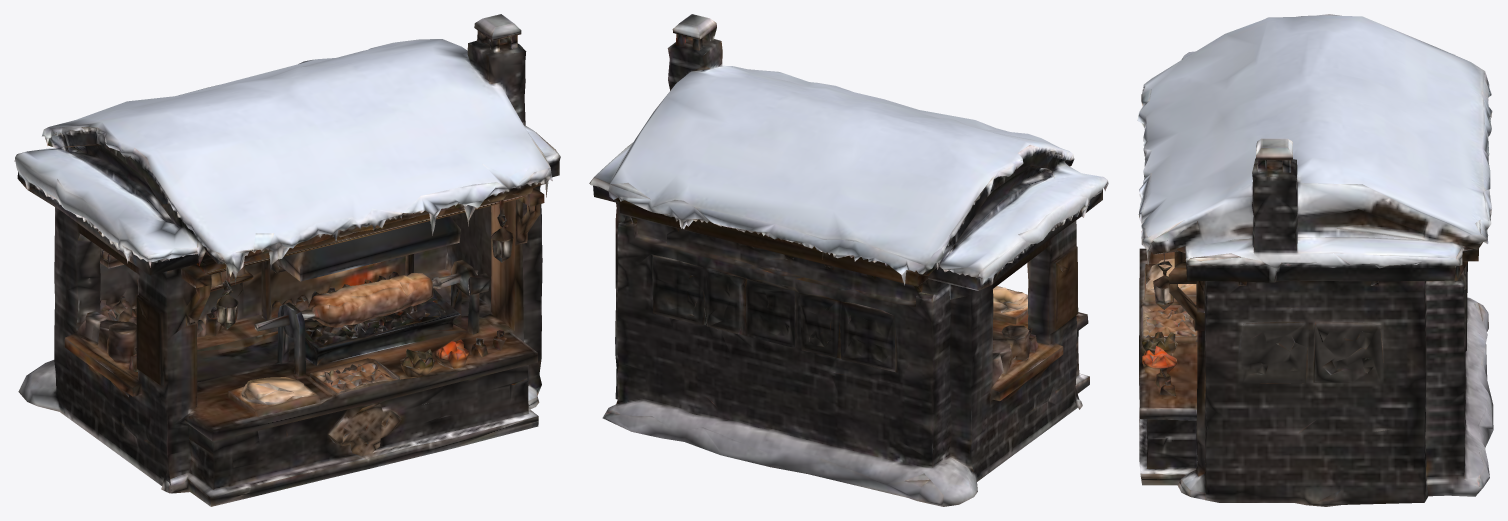
File: city_erzurum_cag_kebap.glb
3 renders of one model, left to right at view 1: azimuth 30°, elevation 25°; view 2: azimuth 150°, elevation 25°; view 3: azimuth 270°, elevation 25°, orthographic. The views are drawn at different scales.
Visible parts, largest first — view 1: Mesh1.0; view 2: Mesh1.0; view 3: Mesh1.0.
Boxes of the visible parts, box(x1,y1,x2,y2) form: Mesh1.0: box(14, 14, 560, 506); Mesh1.0: box(589, 14, 1108, 506); Mesh1.0: box(1137, 14, 1493, 506).
Bounding box in the file's own units: 3.3 × 2.6 × 2.37.
1 material, 1 textured.
